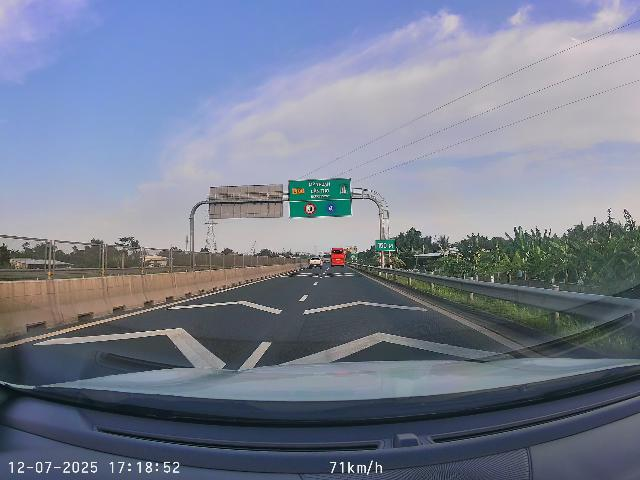127-toc-do-toi-da-90: (304, 203, 316, 215)
306-toc-do-toi-thieu-60: (325, 202, 337, 214)
437-bat-dau-duong-cao-toc: (340, 183, 348, 194)
